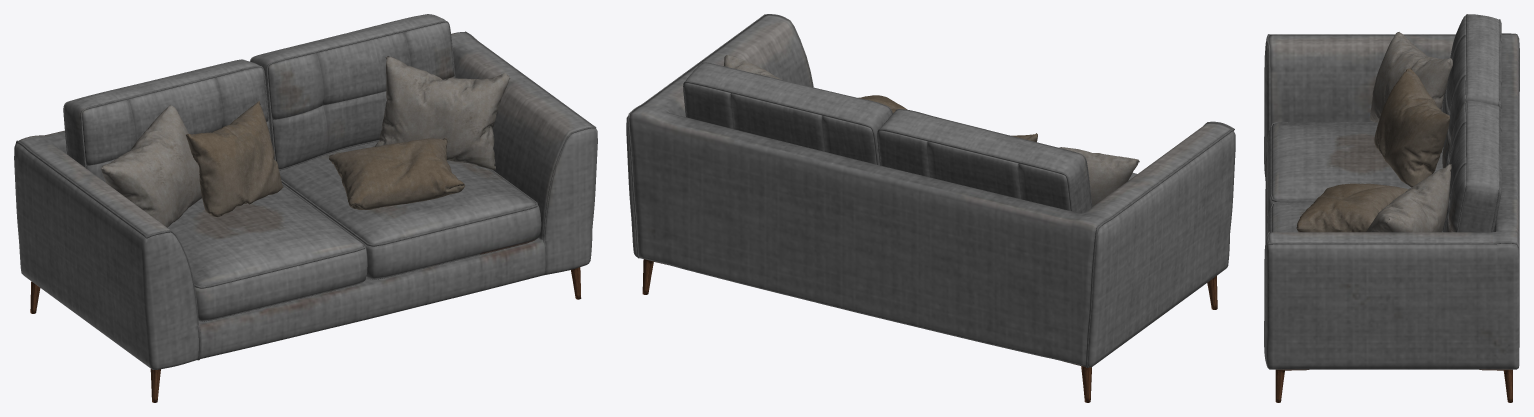
The model's file is dirty_sofa.glb.
3 views of the same model, side by side, from view 1: azimuth 30°, elevation 25°; view 2: azimuth 150°, elevation 25°; view 3: azimuth 270°, elevation 25° (orthographic). The views are drawn at different scales.
Parts seen in each view (by area): view 1: 2D; view 2: 2D; view 3: 2D.
Part boxes in pixels (x1=…): 2D: x1=14, y1=14, x2=597, y2=402; 2D: x1=626, y1=14, x2=1235, y2=402; 2D: x1=1264, y1=14, x2=1519, y2=402.
Size of the model in its own units: 1512 by 684 by 770.
2 materials, 2 textured.
